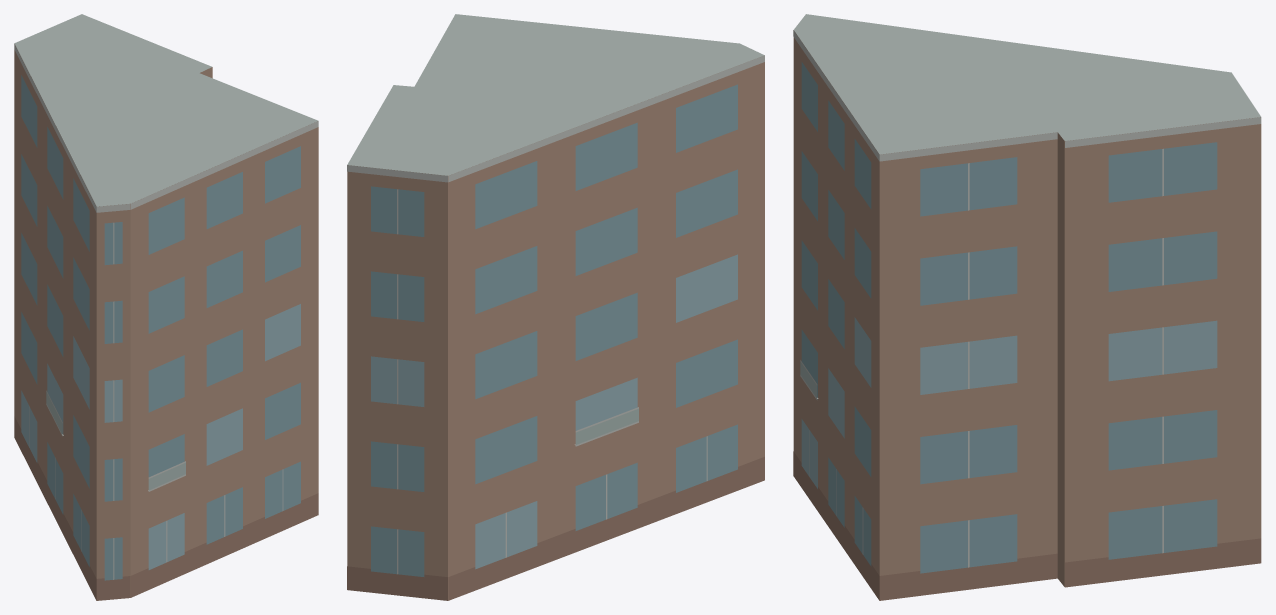
The model's file is survey-upis-32557641.glb.
The picture shows the model from 3 angles, left to right: view 1: azimuth 30°, elevation 25°; view 2: azimuth 150°, elevation 25°; view 3: azimuth 270°, elevation 25°; orthographic projection. The views are drawn at different scales.
Parts seen in each view (by area): view 1: survey-upis-32557641.tmp; view 2: survey-upis-32557641.tmp; view 3: survey-upis-32557641.tmp.
Part boxes in pixels (<box>): survey-upis-32557641.tmp: <box>14,14,318,600</box>; survey-upis-32557641.tmp: <box>347,14,764,600</box>; survey-upis-32557641.tmp: <box>793,14,1261,600</box>.
Bounding box in the file's own units: 10.55 × 15.6 × 14.83.
